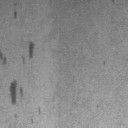red iron: (10, 80, 16, 104), (0, 51, 7, 66), (29, 41, 34, 59), (14, 10, 18, 18), (20, 87, 23, 96), (110, 0, 116, 4), (22, 56, 25, 64), (30, 119, 34, 123), (38, 108, 40, 114)
